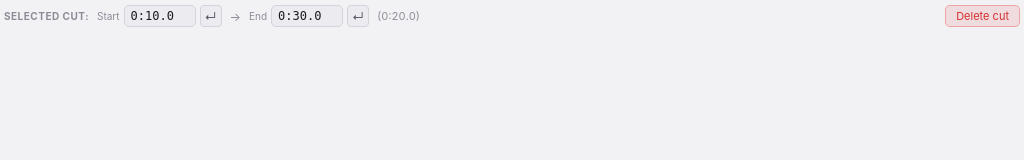
it: CutEditor editing lifecycle › returns to the segment value after committing
Replace the text in the field with class "cut-editor-input" next to "Start" with "garbage". click: (160, 16)
box: [124,5,196,27]
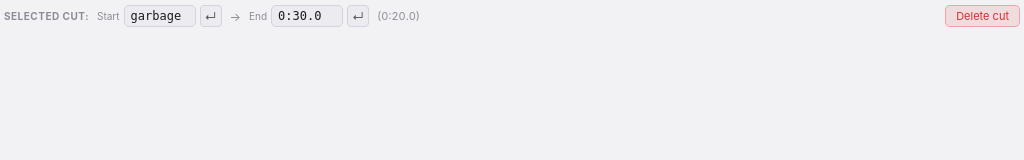
Leave the field with class "cut-editor-input" next to "Start", box [124,5,196,27]
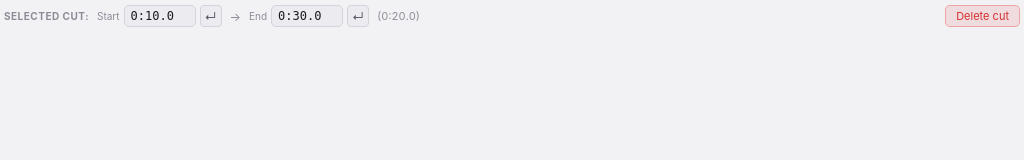
Expected: the field with class "cut-editor-input" next to "Start" holds "0:10.0", [124,5,196,27]
